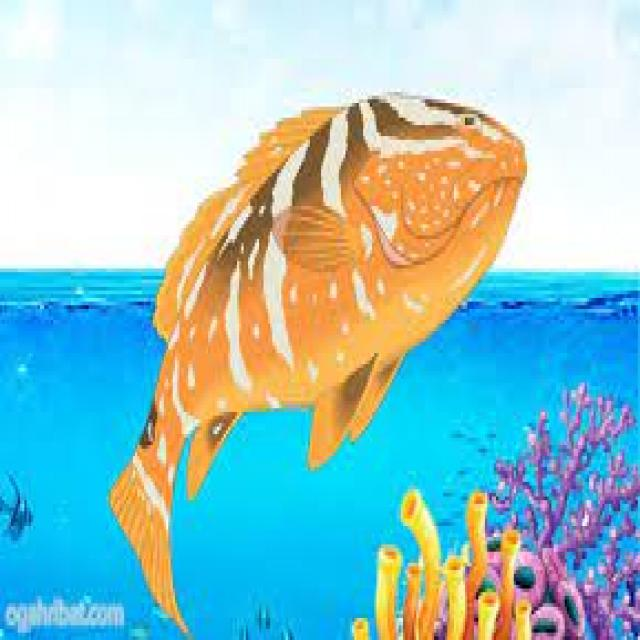Plectropomus-leopardus: (115, 79, 536, 571)
